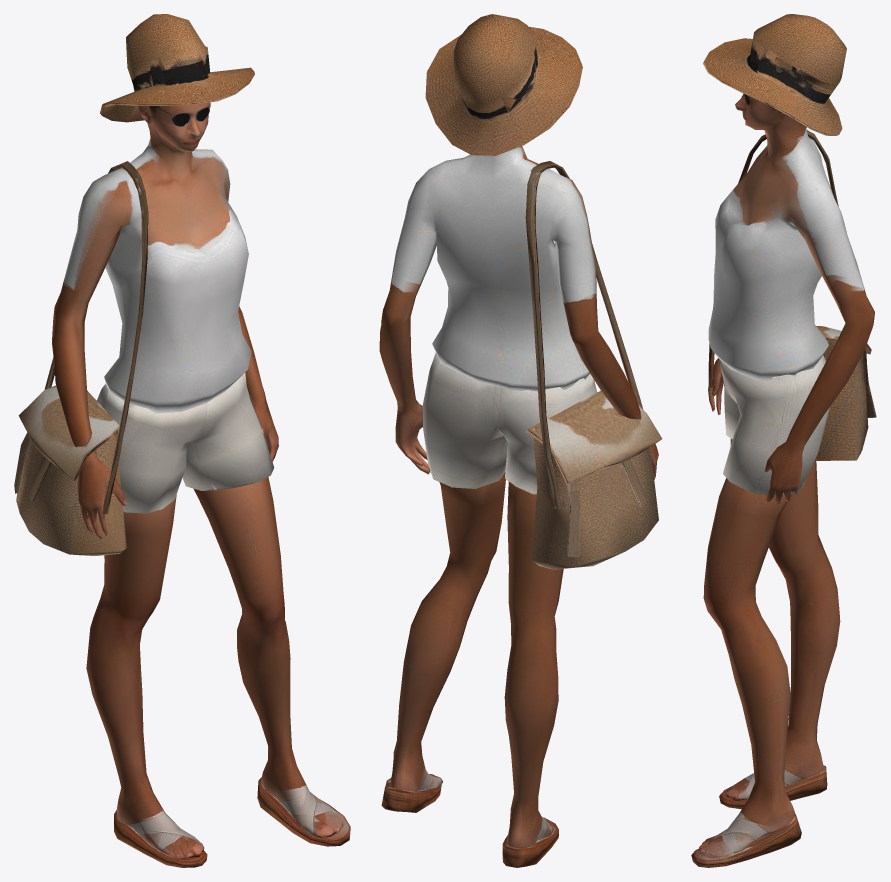
Rendered from tourist.glb.
The picture shows the model from 3 angles, left to right: view 1: azimuth 30°, elevation 25°; view 2: azimuth 150°, elevation 25°; view 3: azimuth 270°, elevation 25°; orthographic projection. The views are drawn at different scales.
Bounding box in the file's own units: 0.6148 × 1.7 × 0.3623.
1 material, 1 textured.
